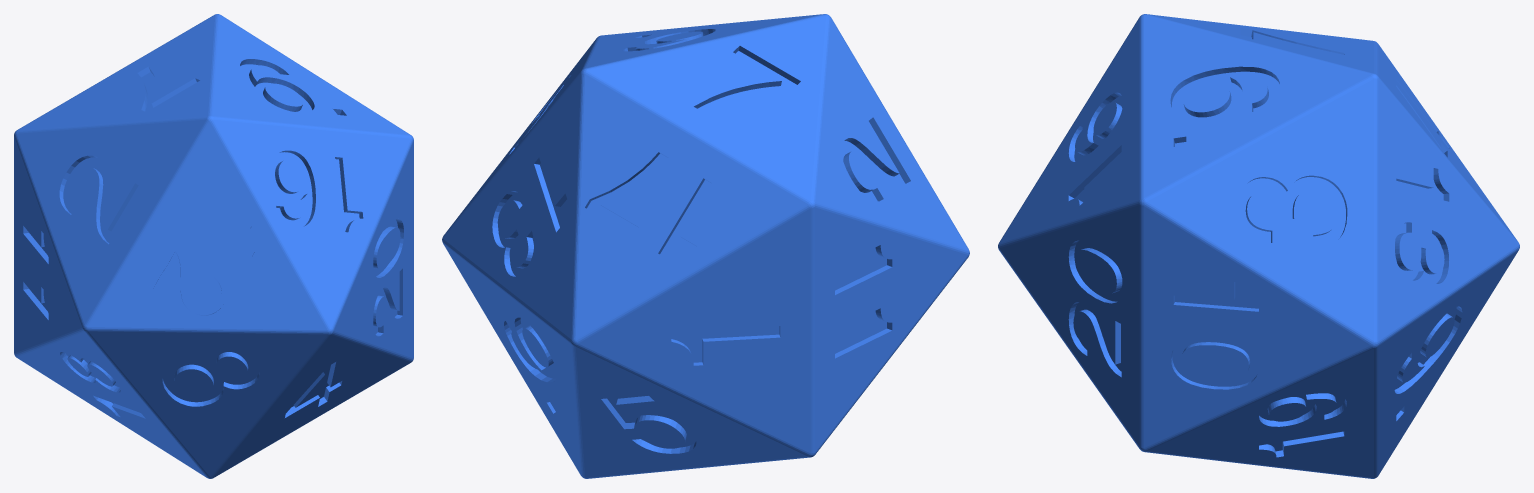
3 renders of one model, left to right at view 1: azimuth 30°, elevation 25°; view 2: azimuth 150°, elevation 25°; view 3: azimuth 270°, elevation 25°, orthographic. The views are drawn at different scales.
Bounding box in the file's own units: 19.92 × 18.98 × 22.2.
